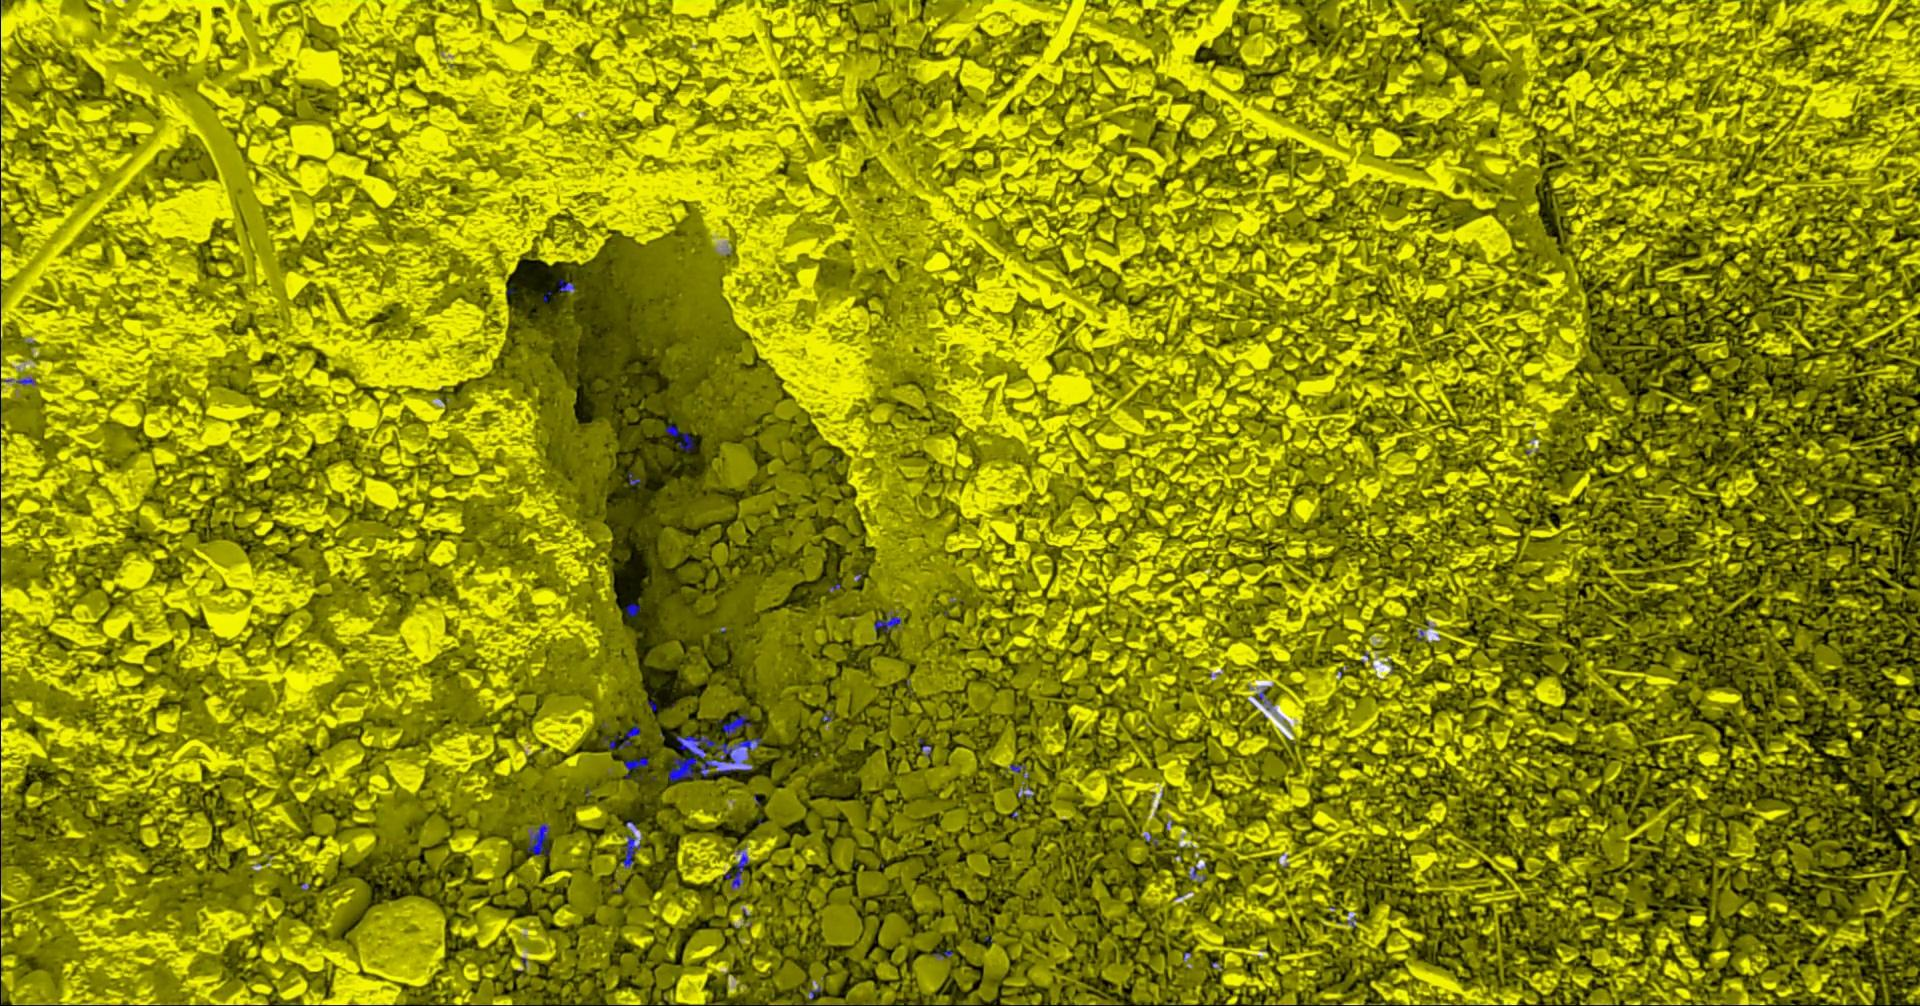ant: (724, 848, 748, 890), (601, 725, 640, 749), (526, 823, 549, 855), (665, 426, 693, 450), (723, 714, 750, 735), (622, 833, 640, 866), (623, 757, 648, 779), (872, 616, 902, 633), (1252, 687, 1272, 705), (1010, 763, 1029, 776), (625, 602, 640, 616), (557, 278, 574, 291), (931, 948, 952, 956)
